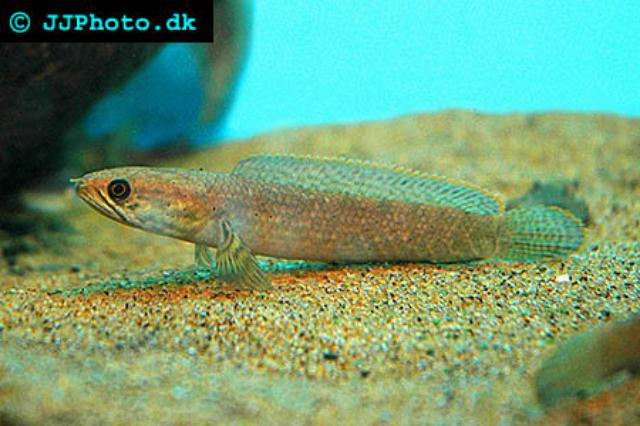Mulut: (73, 168, 144, 233)
Sirip Dada: (212, 212, 282, 303), (185, 237, 218, 277)
Sirip Ekor: (494, 202, 594, 270)
Sirip Punggung: (234, 146, 508, 222)
